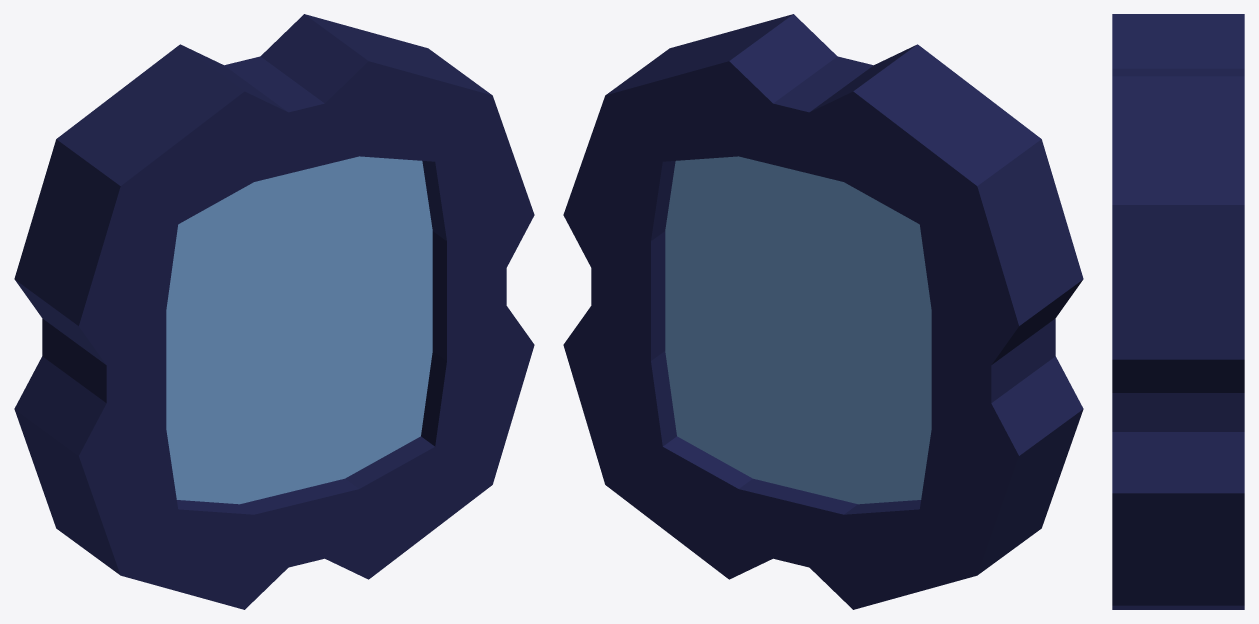
Rendered from winter-coin.glb.
The picture shows the model from 3 angles, left to right: view 1: azimuth 30°, elevation 25°; view 2: azimuth 150°, elevation 25°; view 3: azimuth 270°, elevation 25°; orthographic projection. The views are drawn at different scales.
Parts seen in each view (by area): view 1: WinterCoin; view 2: WinterCoin; view 3: WinterCoin.
Boxes of the visible parts, box(x1,y1,x2,y2) form: WinterCoin: box(14, 14, 534, 609); WinterCoin: box(563, 14, 1083, 609); WinterCoin: box(1112, 14, 1244, 609).
Size of the model in its own units: 98 by 107 by 24.
Materials: 1 (1 with a texture image).
